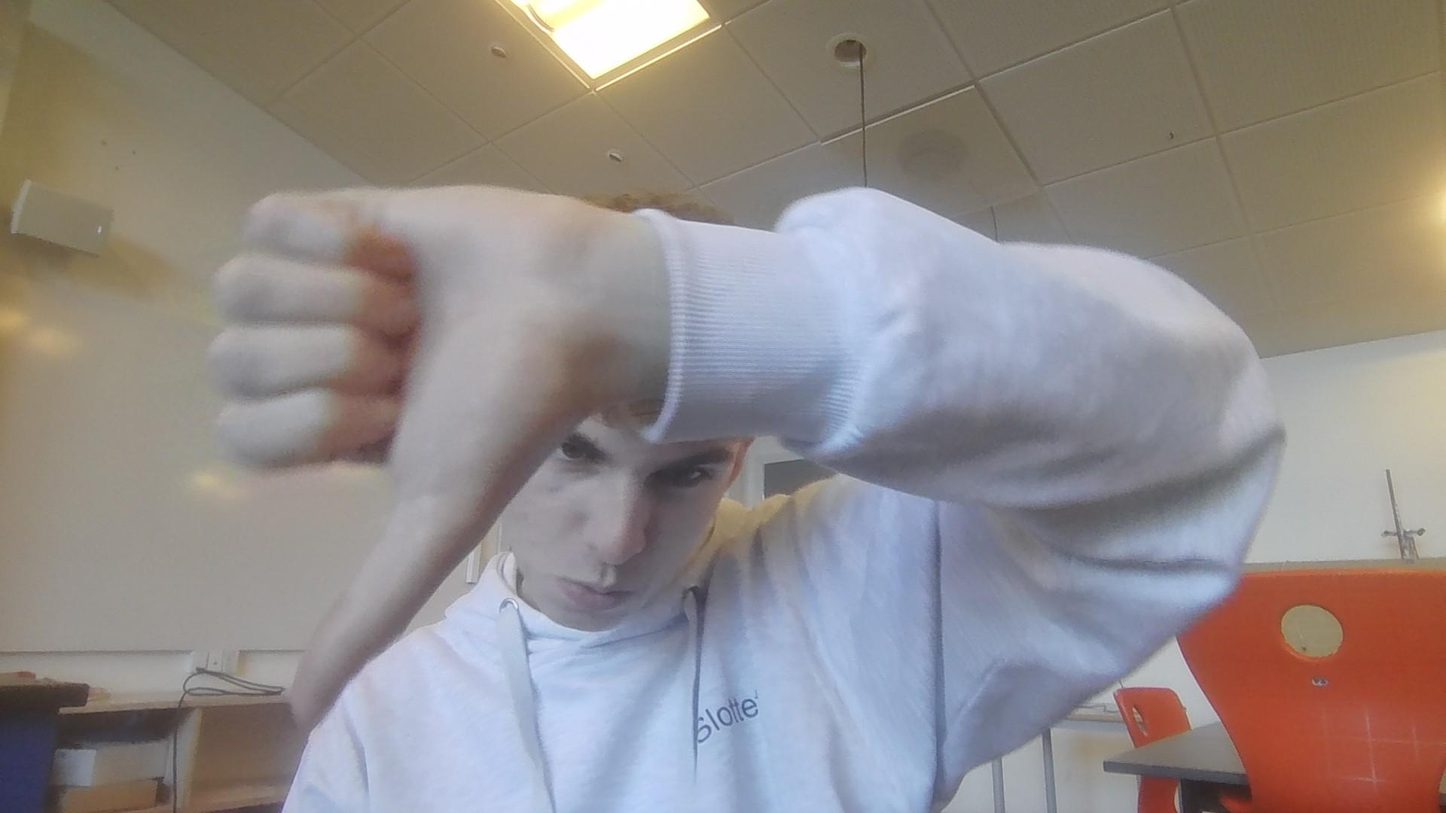thumbs down: (220, 178, 602, 723)
